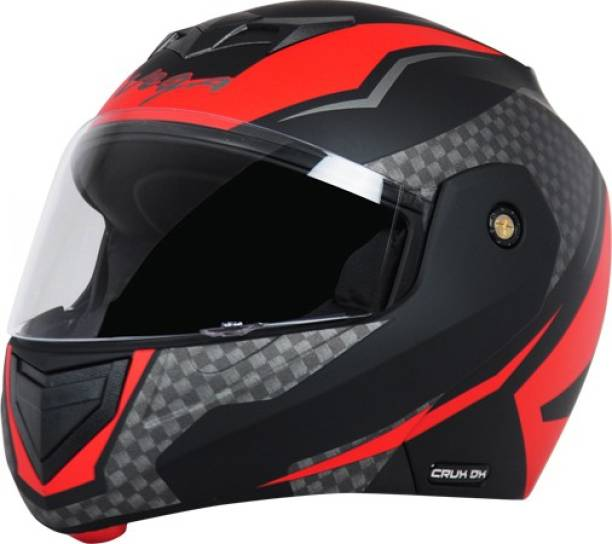with_helmet: (3, 4, 608, 544)
